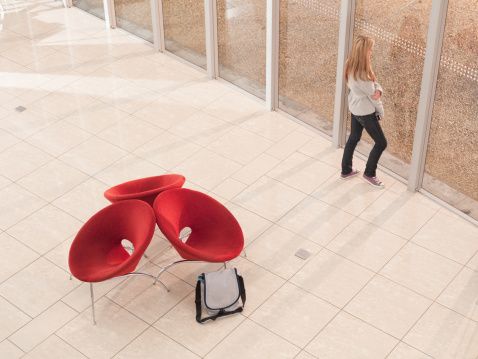em pe: (335, 38, 385, 182)
